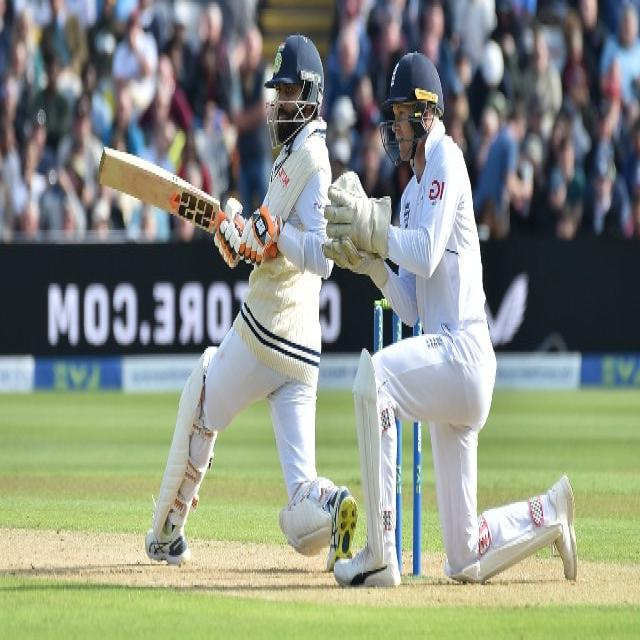stump: (394, 419, 421, 577), (373, 296, 423, 354)
